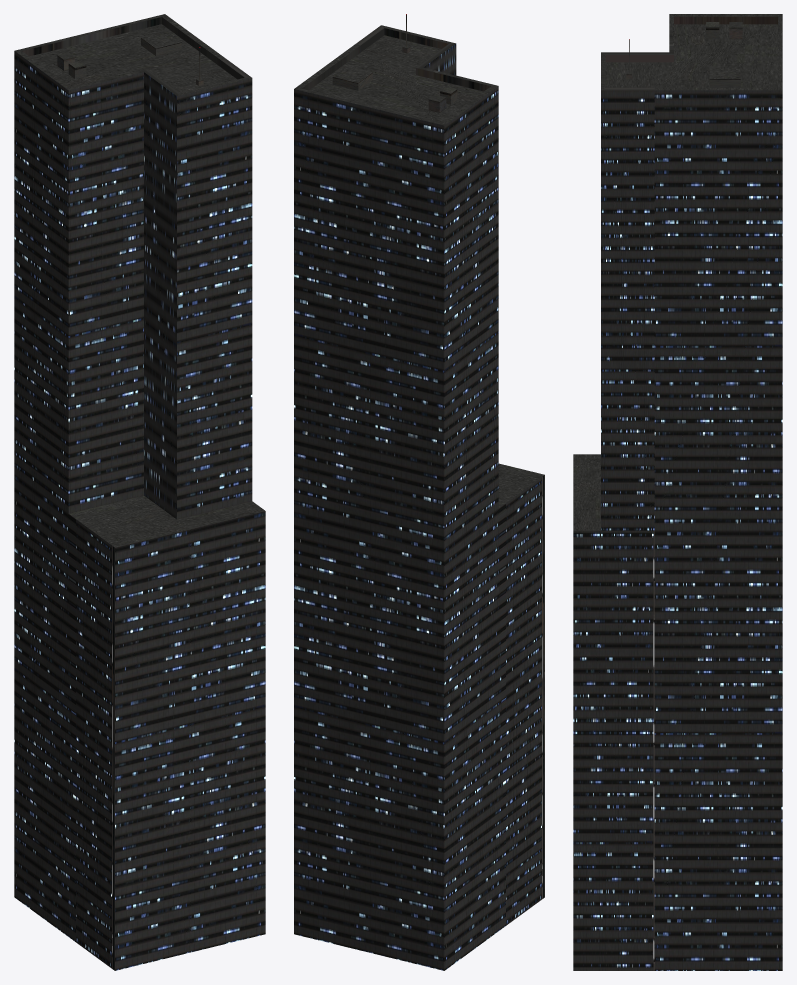
File: 2026-commercial-building-9.glb
The picture shows the model from 3 angles, left to right: view 1: azimuth 30°, elevation 25°; view 2: azimuth 150°, elevation 25°; view 3: azimuth 270°, elevation 25°; orthographic projection. The views are drawn at different scales.
Visible parts, largest first — view 1: 2026-commercial-building-9; view 2: 2026-commercial-building-9; view 3: 2026-commercial-building-9.
Boxes of the visible parts, x1,y1,x2,y2 form: 2026-commercial-building-9: [14, 14, 265, 970]; 2026-commercial-building-9: [294, 14, 544, 970]; 2026-commercial-building-9: [573, 14, 782, 970].
Size of the model in its own units: 30.97 by 172 by 35.83.
3 materials, 2 textured.
